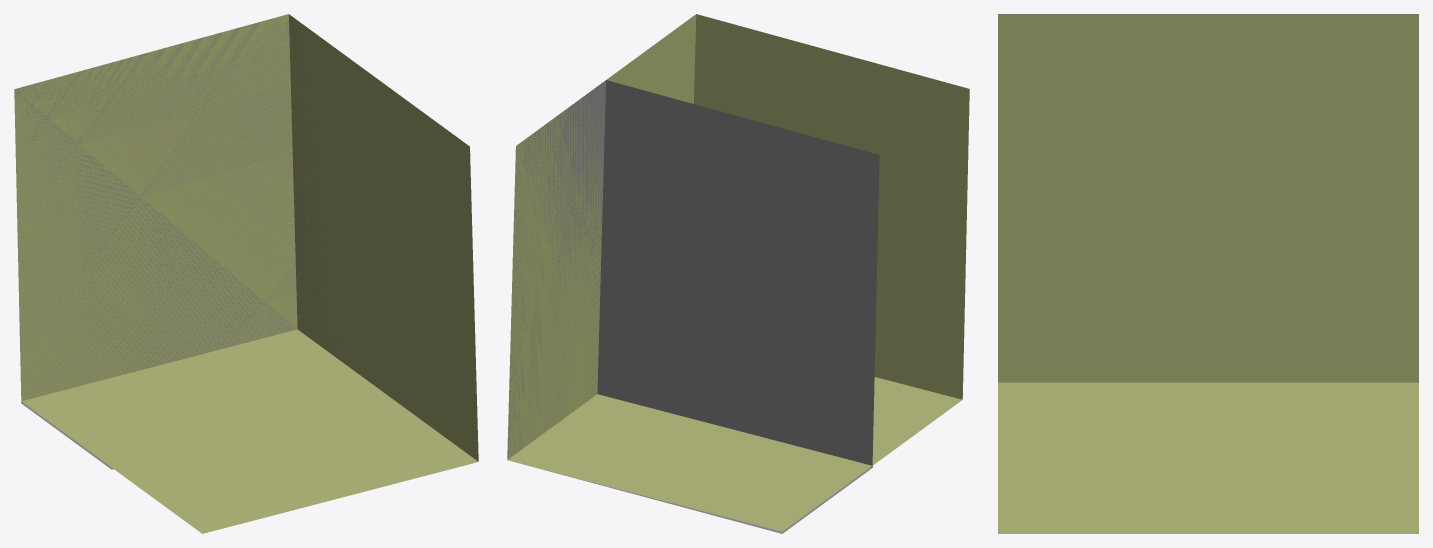
3 renders of one model, left to right at view 1: azimuth 30°, elevation 25°; view 2: azimuth 150°, elevation 25°; view 3: azimuth 270°, elevation 25°, orthographic. The views are drawn at different scales.
Visible parts, largest first — view 1: 0_1_2_0_3_3_1_0_1_0; view 2: 0_1_2_0_3_3_1_0_1_0; view 3: 0_1_2_0_3_3_1_0_1_0.
Boxes of the visible parts, x1,y1,x2,y2 form: 0_1_2_0_3_3_1_0_1_0: (14, 14, 478, 533); 0_1_2_0_3_3_1_0_1_0: (507, 14, 969, 533); 0_1_2_0_3_3_1_0_1_0: (998, 14, 1418, 533).
Bounding box in the file's own units: 5.42 × 5.93 × 6.
